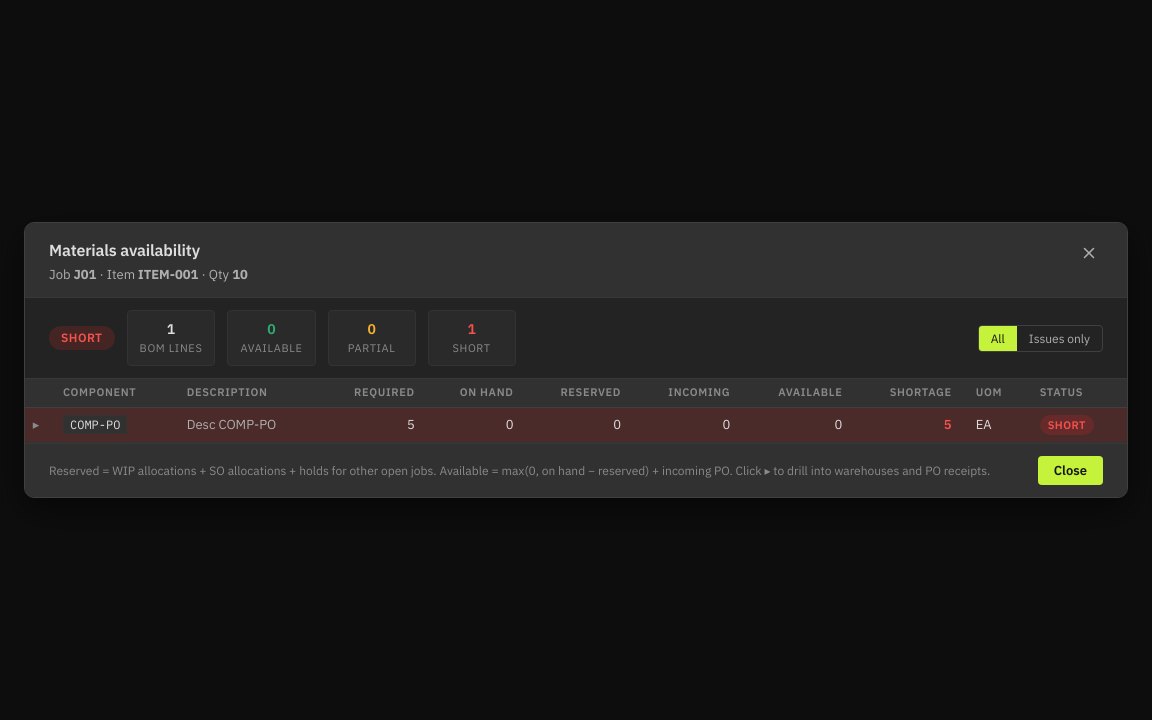
it: BomDetailModal › renders an "overdue" tag for a PO receipt with a past promiseDate
The width and height of the screenshot is (1152, 720).
// Click expand to reveal the PO sub-panel
Click the button named "expand details".
click(36, 425)  # box [25,414,47,436]
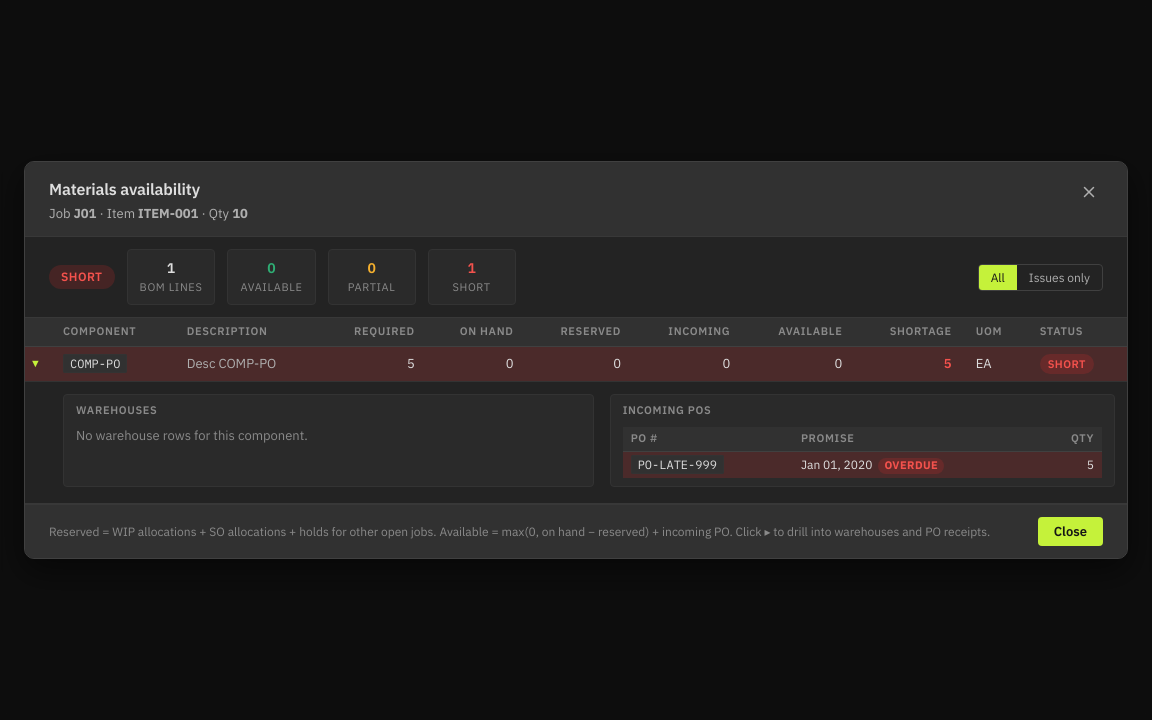
Result: the text "overdue" is shown at [878,458,944,474]
